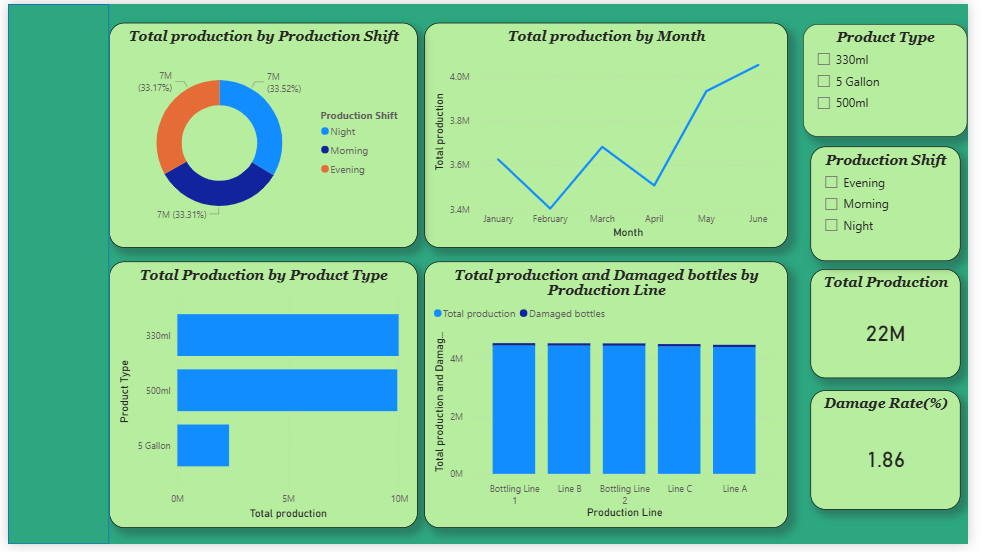

The dashboard page shown, as its layout file describes it:
{"tool":"powerbi","page":{"name":"Production Analysis","canvas":[1280,720],"ordinal":1},"visuals":[{"type":"card","title":"Total Production","fields":{"Values":["Measure.Total production"]},"box":[1070.3,352.7,200,145.9],"z":0},{"type":"card","title":"Damage Rate(%)","fields":{"Values":["Measure.Damage rate%"]},"box":[1070.3,514.9,200,159.5],"z":1000},{"type":"slicer","title":"Product Type","fields":{"Values":["Rawda_procudtion_sales.Product Type"]},"box":[1061.4,27.1,208.6,150],"z":2000},{"type":"slicer","title":"Production Shift","fields":{"Values":["Rawda_procudtion_sales.Production Shift"]},"box":[1070.3,190.5,200,152.7],"z":3000},{"type":"lineChart","fields":{"Y":["Measure.Total production"],"Category":["Rawda_procudtion_sales.Date.Variation.Date Hierarchy.Month"]},"box":[555.4,24.3,485.1,300],"z":4000},{"type":"barChart","title":"Total Production by Product Type","fields":{"Y":["Measure.Total production"],"Category":["Rawda_procudtion_sales.Product Type"]},"box":[135.1,343.2,410.8,355.4],"z":5000},{"type":"donutChart","fields":{"Y":["Measure.Total production"],"Category":["Rawda_procudtion_sales.Production Shift"]},"box":[135.1,24.3,410.8,300],"z":6000},{"type":"columnChart","fields":{"Category":["Rawda_procudtion_sales.Production Line"],"Y":["Measure.Total production","Measure.Damaged bottles"]},"box":[555.4,343.2,485.1,355.4],"z":7000},{"type":"shape","box":[0,0,135,720.2],"z":8000},{"type":"image","box":[0,624.3,135.7,95.7],"z":9000},{"type":"image","box":[0,484.3,134.3,110],"z":10000},{"type":"image","box":[0,324.3,134.3,132.9],"z":11000},{"type":"image","box":[0,190,134.3,114.3],"z":12000},{"type":"image","box":[0,88.6,134.3,101.4],"z":13000},{"type":"image","box":[5.7,0,124.3,64.3],"z":14000}]}

Visuals, with their boxes in screenshot pixels (x1, y1, x2, y2), scaled from the page's 1280x720 canvas onto the 993x552 screenshot:
"Total Production" card: locate(830, 270, 985, 382)
"Damage Rate(%)" card: locate(830, 395, 985, 517)
"Product Type" slicer: locate(823, 21, 985, 136)
"Production Shift" slicer: locate(830, 146, 985, 263)
lineChart - Measure.Total production x Rawda_procudtion_sales.Date.Variation.Date Hierarchy.Month: locate(431, 19, 807, 249)
"Total Production by Product Type" barChart: locate(105, 263, 423, 536)
donutChart - Measure.Total production x Rawda_procudtion_sales.Production Shift: locate(105, 19, 423, 249)
columnChart - Rawda_procudtion_sales.Production Line x Measure.Total production: locate(431, 263, 807, 536)
shape: locate(0, 0, 105, 551)
image: locate(0, 479, 105, 551)
image: locate(0, 371, 104, 456)
image: locate(0, 249, 104, 351)
image: locate(0, 146, 104, 233)
image: locate(0, 68, 104, 146)
image: locate(4, 0, 101, 49)
